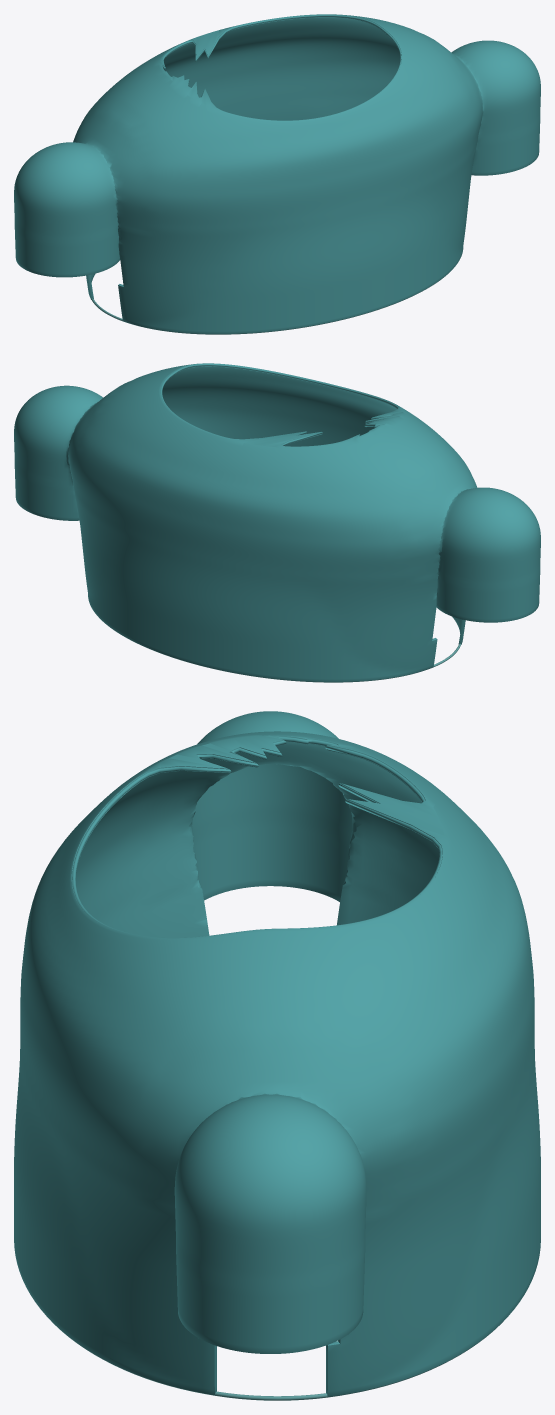
Rendered from Masculine-tshirt-top.glb.
The picture shows the model from 3 angles, top to bottom: view 1: azimuth 30°, elevation 25°; view 2: azimuth 150°, elevation 25°; view 3: azimuth 270°, elevation 25°; orthographic projection. The views are drawn at different scales.
Parts seen in each view (by area): view 1: Clothing / study continuous T-shirt, Neckline / study seated binding export, Shirt / seated hem export; view 2: Clothing / study continuous T-shirt, Neckline / study seated binding export, Shirt / seated hem export; view 3: Clothing / study continuous T-shirt, Neckline / study seated binding export, Shirt / seated hem export.
Boxes of the visible parts, bbox=[...] form: Clothing / study continuous T-shirt: bbox=[14, 14, 540, 333]; Neckline / study seated binding export: bbox=[161, 14, 401, 120]; Shirt / seated hem export: bbox=[91, 274, 447, 334]; Clothing / study continuous T-shirt: bbox=[14, 363, 540, 681]; Neckline / study seated binding export: bbox=[160, 363, 398, 446]; Shirt / seated hem export: bbox=[101, 620, 461, 682]; Clothing / study continuous T-shirt: bbox=[14, 711, 540, 1396]; Neckline / study seated binding export: bbox=[72, 737, 442, 938]; Shirt / seated hem export: bbox=[51, 1321, 503, 1400].
Size of the model in its own units: 0.9795 by 0.3945 by 0.461.
